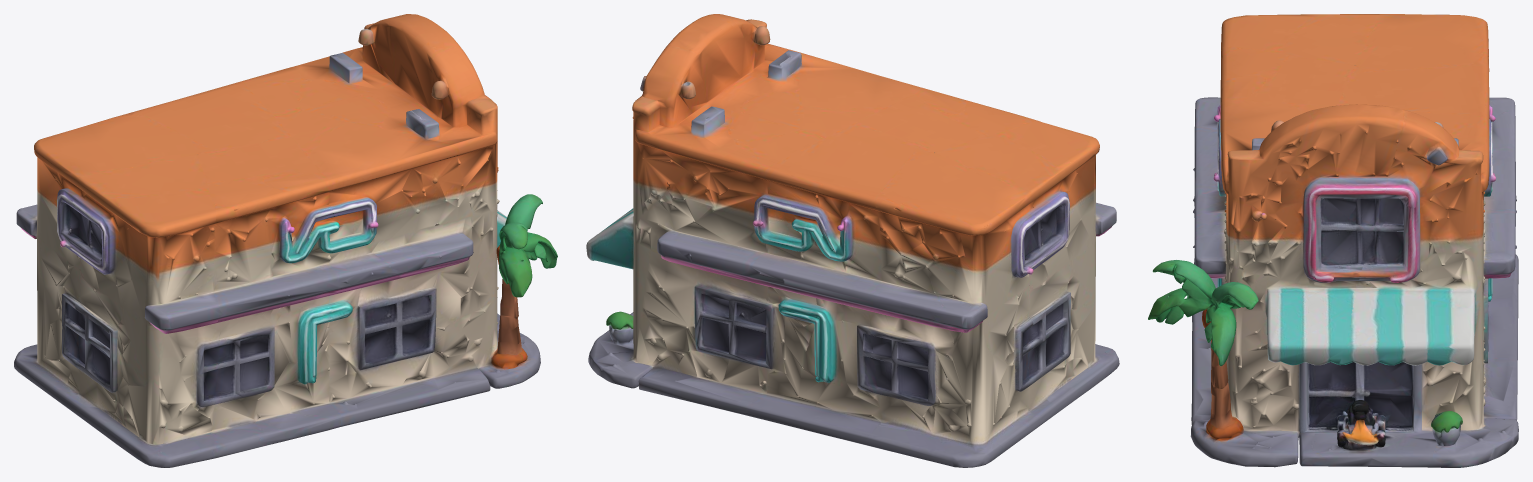
Rendered from corner-arcade-diet.glb.
3 renders of one model, left to right at view 1: azimuth 30°, elevation 25°; view 2: azimuth 150°, elevation 25°; view 3: azimuth 270°, elevation 25°, orthographic. The views are drawn at different scales.
Visible parts, largest first — view 1: tripo_node_196f8994-c5de-4954-9857-a6d213193f1b; view 2: tripo_node_196f8994-c5de-4954-9857-a6d213193f1b; view 3: tripo_node_196f8994-c5de-4954-9857-a6d213193f1b.
Part boxes in pixels (x1=…): tripo_node_196f8994-c5de-4954-9857-a6d213193f1b: x1=14, y1=14, x2=557, y2=467; tripo_node_196f8994-c5de-4954-9857-a6d213193f1b: x1=586, y1=14, x2=1119, y2=467; tripo_node_196f8994-c5de-4954-9857-a6d213193f1b: x1=1148, y1=14, x2=1518, y2=467.
Size of the model in its own units: 0.9998 by 0.7014 by 0.725.
Materials: 1 (1 with a texture image).
